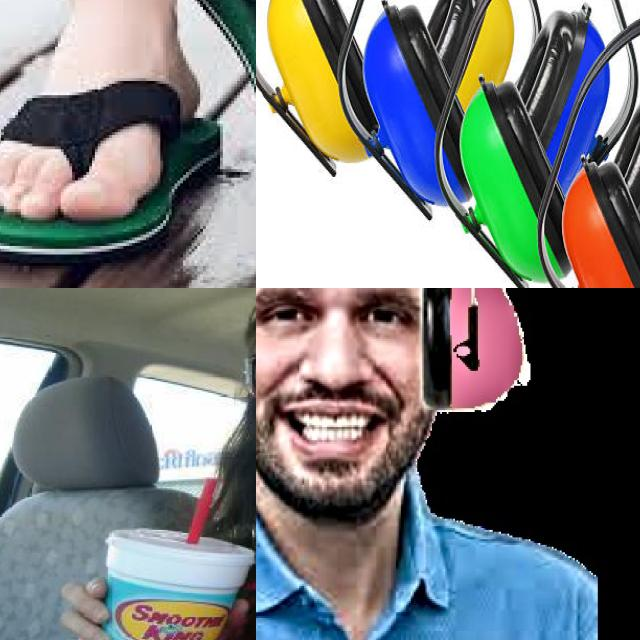Ear-protection: (256, 288, 570, 430), (432, 0, 569, 288), (335, 0, 480, 221), (531, 17, 640, 288), (256, 0, 381, 184), (515, 0, 635, 184), (575, 61, 640, 181)
Sandals: (0, 0, 204, 254)
hand_noglove: (59, 569, 125, 640)
person: (140, 288, 256, 640)
